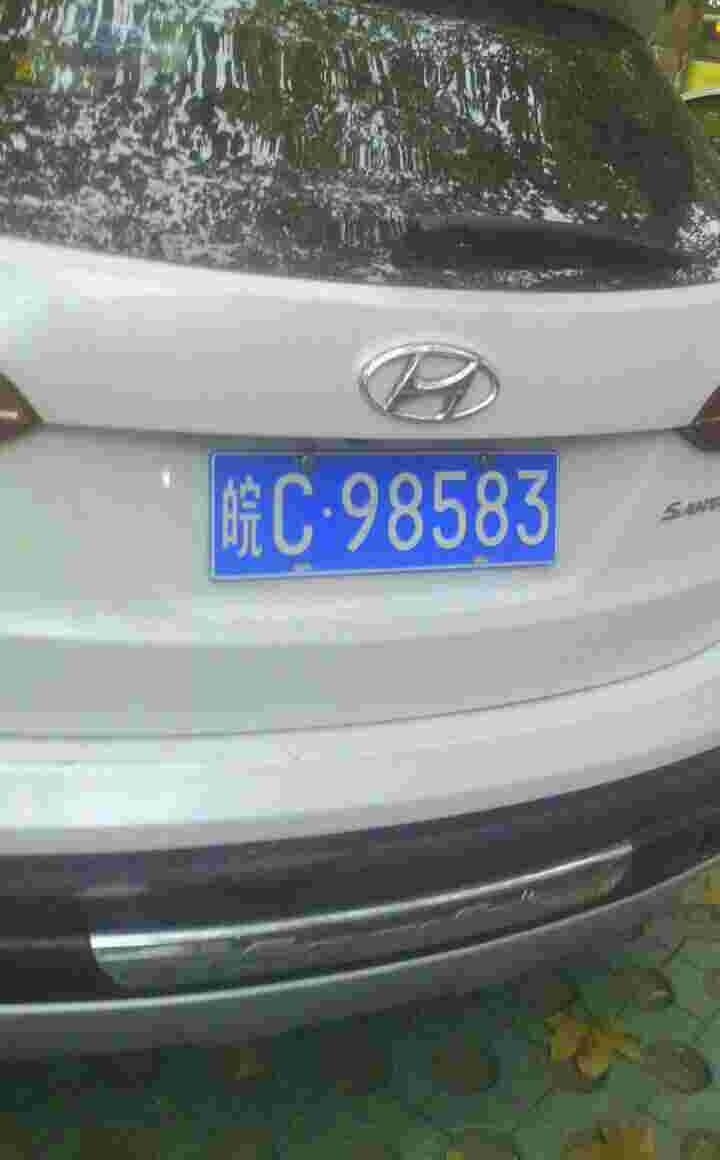license_plate: (210, 449, 545, 583)
